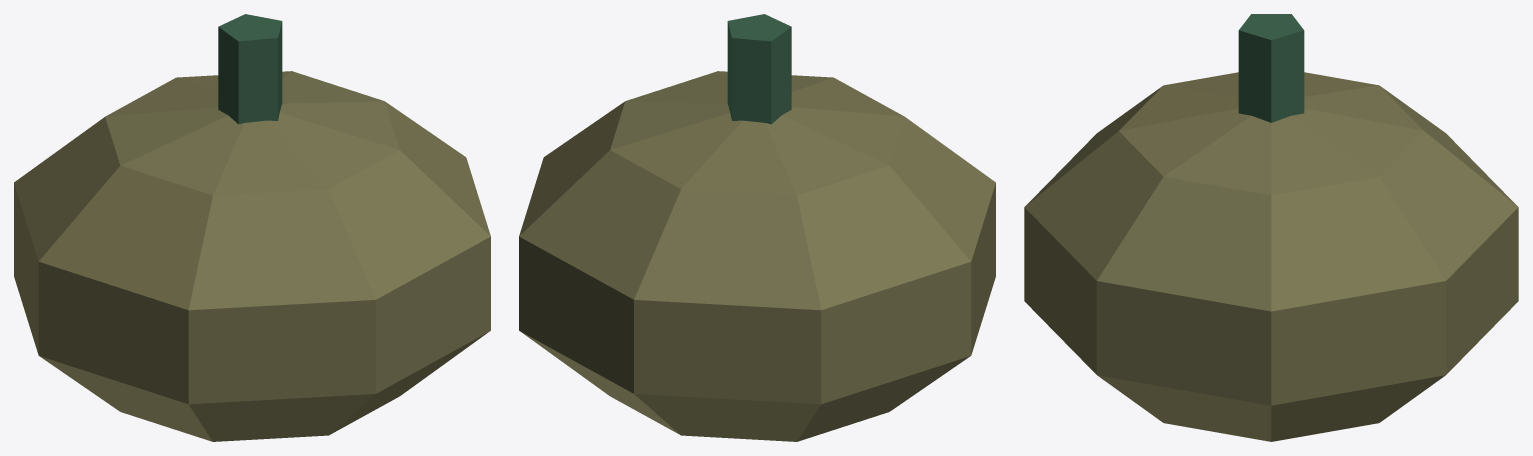
File: pumpkin.glb
3 views of the same model, side by side, from view 1: azimuth 30°, elevation 25°; view 2: azimuth 150°, elevation 25°; view 3: azimuth 270°, elevation 25° (orthographic).
Visible parts, largest first — view 1: Gourd, Stem; view 2: Gourd, Stem; view 3: Gourd, Stem.
Part boxes in pixels (left/top/right/bottom): Gourd: left=14, top=71, right=490, bottom=441; Stem: left=218, top=14, right=282, bottom=124; Gourd: left=519, top=71, right=995, bottom=441; Stem: left=727, top=14, right=791, bottom=124; Gourd: left=1024, top=72, right=1518, bottom=441; Stem: left=1238, top=14, right=1304, bottom=122.
Bounding box in the file's own units: 0.6467 × 0.55 × 0.6467.
